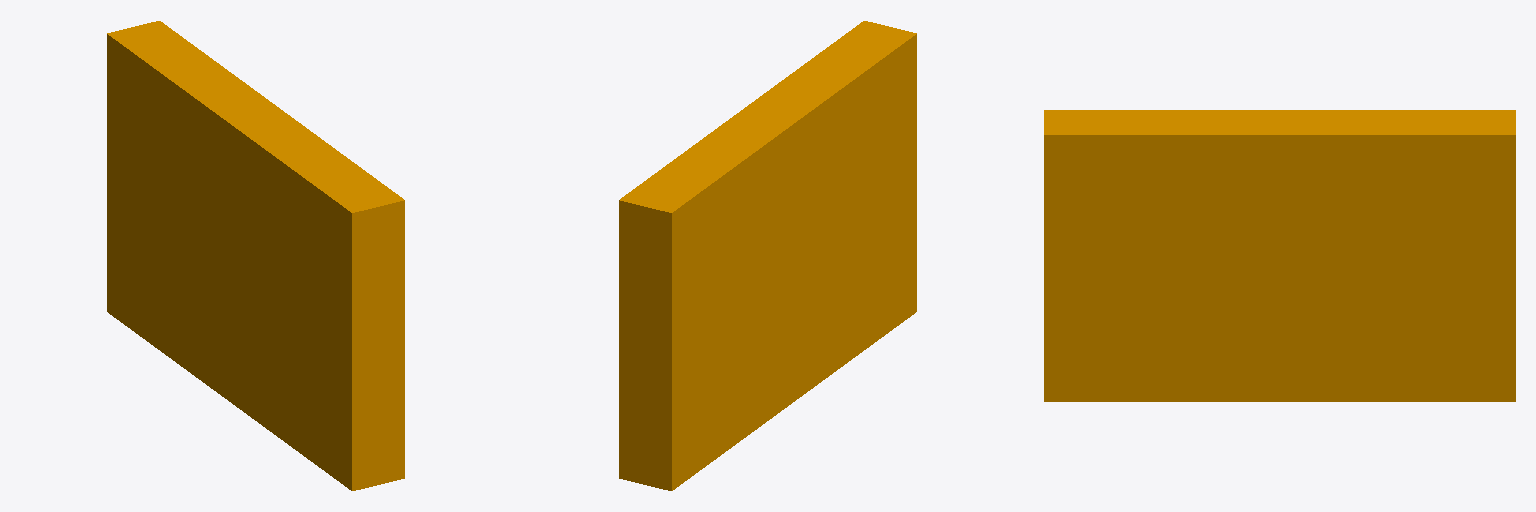
URDF robot description (sphere):
<?xml version="1.0"?>
<robot name="sphere">

  <link name="link1">

    <inertial>
      <origin xyz="0 0 0" rpy="0 0 0"/>
      <mass value="1.0" />
      <inertia  ixx="1.0" ixy="0.0"  ixz="0.0"  iyy="100.0"  iyz="0.0"  izz="1.0" />
    </inertial>

    <visual>
      <origin xyz="1 0 0" rpy="0 0 0"/>
      <geometry>
        <box size="0.1 0.8 0.5"/>
      </geometry>
    </visual>

    <!-- disable collision -->
    <!-- <collision>
      <origin xyz="0 0 0"/>
      <geometry>
        <sphere radius="0.02"/>
      </geometry>
    </collision> -->

  </link>

  <gazebo reference="link1">
    <material>Gazebo/White</material>
    <turnGravityOff>true</turnGravityOff>
  </gazebo>

</robot>

--- Facts derived from the render (not from the file) ---
3 views of the same robot in one strip: view 1: azimuth 30°, elevation 25°; view 2: azimuth 150°, elevation 25°; view 3: azimuth 270°, elevation 25° (orthographic).
Model sphere with 1 links and 0 joints (none), rooted at link1, posed all joints at 0.
Visible links, largest first — view 1: link1; view 2: link1; view 3: link1.
Link boxes in pixels (box(x1,y1,x2,y2)): link1: box(107, 21, 404, 490); link1: box(619, 21, 916, 490); link1: box(1044, 110, 1515, 401).
Bounding box of the posed robot: 0.1 × 0.8 × 0.5 m (x, y, z).
Geometry: primitives only (box / cylinder / sphere), no mesh files.